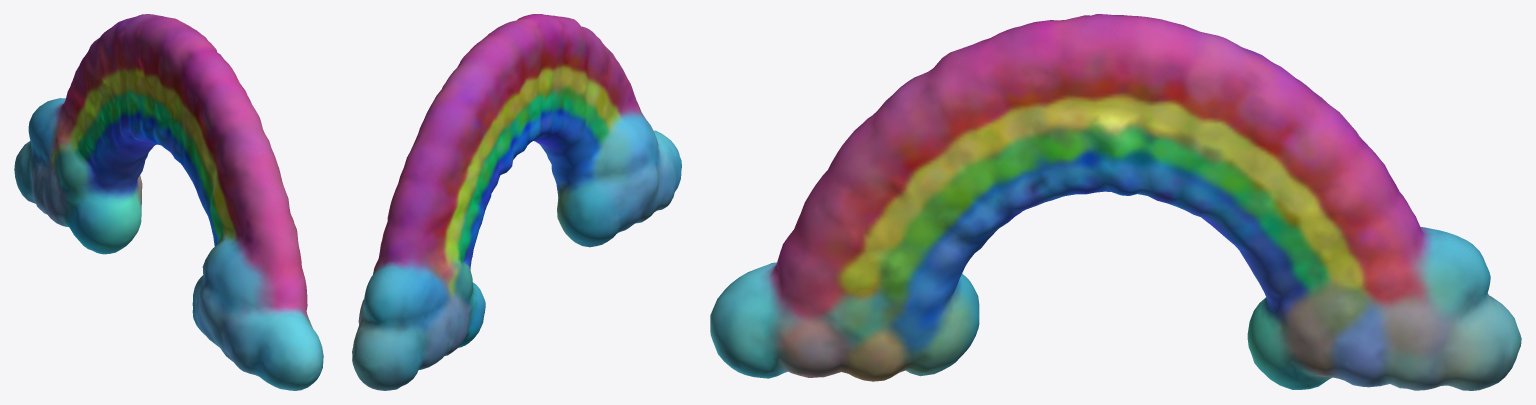
The model's file is rainbow.obj.
The picture shows the model from 3 angles, left to right: view 1: azimuth 30°, elevation 25°; view 2: azimuth 150°, elevation 25°; view 3: azimuth 270°, elevation 25°; orthographic projection. The views are drawn at different scales.
Parts seen in each view (by area): view 1: Mesh1; view 2: Mesh1; view 3: Mesh1.
Boxes of the visible parts, bbox=[...] form: Mesh1: bbox=[14, 14, 323, 390]; Mesh1: bbox=[352, 14, 681, 390]; Mesh1: bbox=[710, 14, 1521, 390].
Size of the model in its own units: 0.2446 by 0.61 by 1.2.
1 material, 1 textured.
